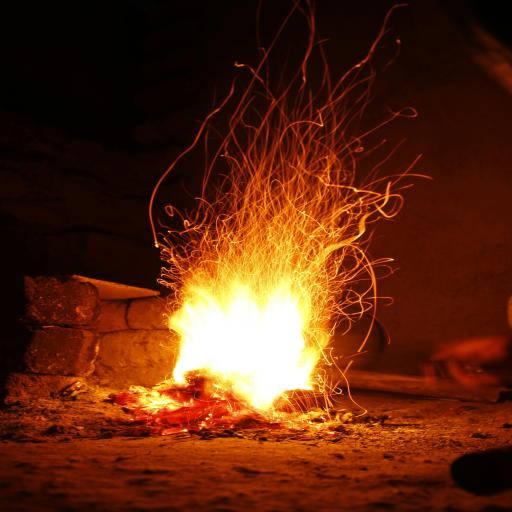campfire: (105, 13, 439, 454)
